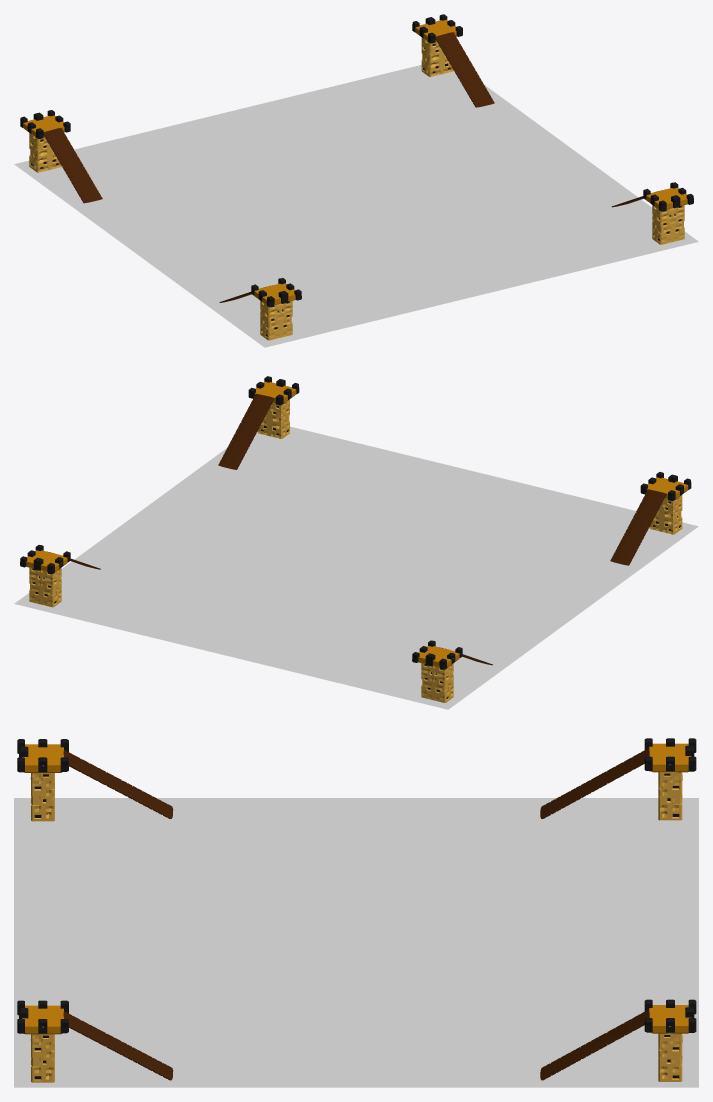
File: Towers.fbx
The picture shows the model from 3 angles, top to bottom: view 1: azimuth 30°, elevation 25°; view 2: azimuth 150°, elevation 25°; view 3: azimuth 270°, elevation 25°; orthographic projection. The views are drawn at different scales.
Visible parts, largest first — view 1: Plane, Tower01.002, Tower01.001, Tower01.003, Tower01, Ramp.003, Ramp; view 2: Plane, Tower01.003, Tower01, Tower01.001, Tower01.002, Ramp.001, Ramp.002; view 3: Plane, Tower01, Tower01.003, Tower01.002, Tower01.001, Ramp.001, Ramp.002, Ramp.003, Ramp.
Boxes of the visible parts, x1=… form: Plane: x1=14, y1=65, x2=698, y2=347; Tower01.002: x1=643, y1=182, x2=693, y2=244; Tower01.001: x1=251, y1=278, x2=301, y2=340; Tower01.003: x1=412, y1=14, x2=462, y2=76; Tower01: x1=20, y1=110, x2=70, y2=172; Ramp.003: x1=435, y1=32, x2=494, y2=107; Ramp: x1=43, y1=128, x2=102, y2=203; Plane: x1=14, y1=426, x2=698, y2=709; Tower01.003: x1=20, y1=545, x2=70, y2=607; Tower01: x1=412, y1=640, x2=462, y2=702; Tower01.001: x1=640, y1=472, x2=691, y2=534; Tower01.002: x1=248, y1=376, x2=299, y2=438; Ramp.001: x1=610, y1=489, x2=666, y2=565; Ramp.002: x1=218, y1=394, x2=274, y2=469; Plane: x1=14, y1=798, x2=698, y2=1087; Tower01: x1=644, y1=738, x2=696, y2=820; Tower01.003: x1=644, y1=999, x2=696, y2=1081; Tower01.002: x1=17, y1=1000, x2=68, y2=1082; Tower01.001: x1=17, y1=739, x2=68, y2=821; Ramp.001: x1=63, y1=750, x2=173, y2=818; Ramp.002: x1=63, y1=1011, x2=173, y2=1080; Ramp.003: x1=540, y1=1009, x2=649, y2=1080; Ramp: x1=540, y1=748, x2=649, y2=818.
Size of the model in its own units: 59951 by 6487 by 59951.
